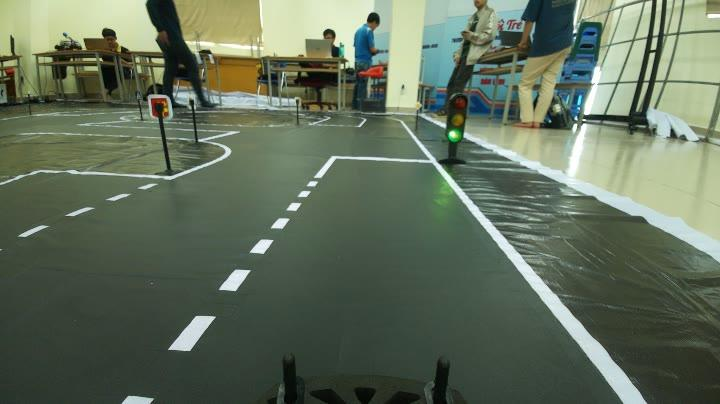trafficlight: (428, 88, 474, 169)
